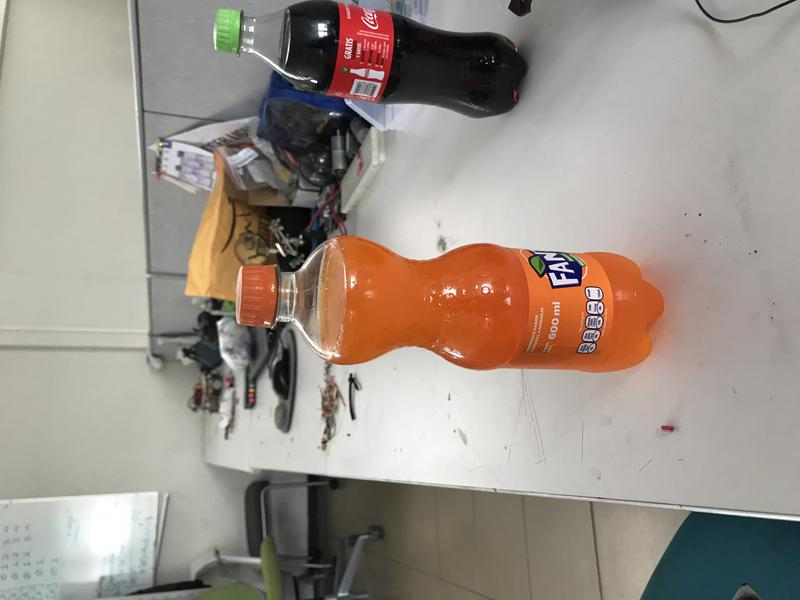fanta: (234, 235, 665, 374)
